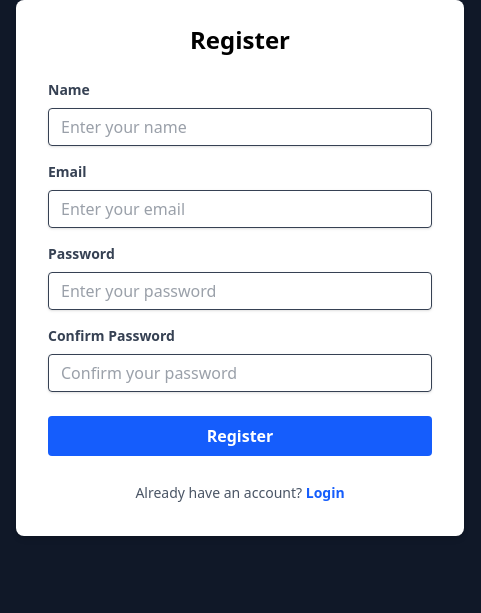
Test: RegisterForm › validation › should show error when passwords do not match
In the field labelled "Name": (240,127) [48, 108, 432, 146], type "Test User"
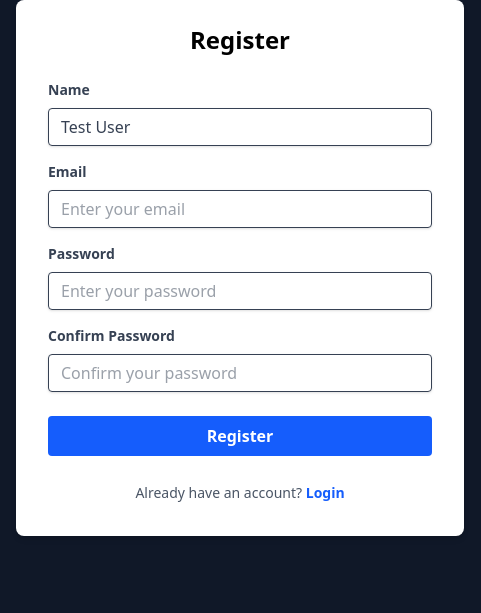
In the field labelled "Email": (240,209) [48, 190, 432, 228], type "test@example.com"
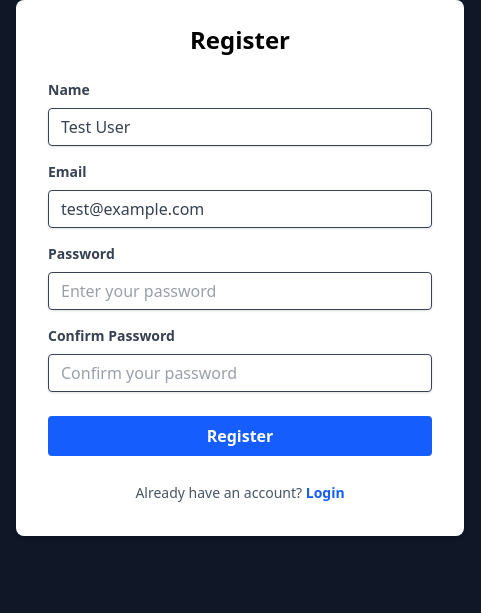
In the password field labelled "Password": (240,291) [48, 272, 432, 310], type "Password123"
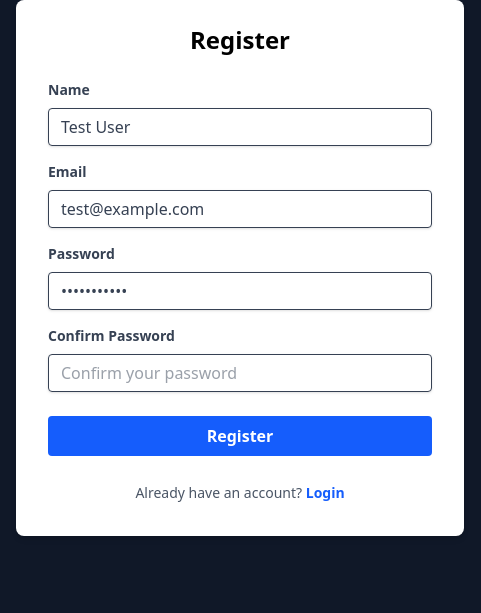
In the password field labelled "Confirm Password": (240,373) [48, 354, 432, 392], type "DifferentPassword123"
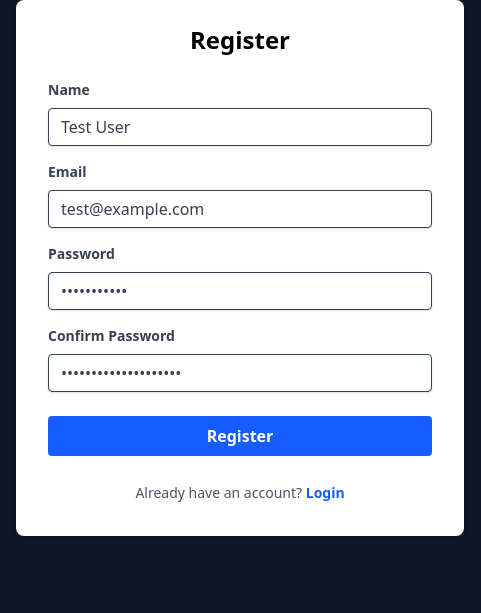
Click the button "Register": (240,436) [48, 416, 432, 456]
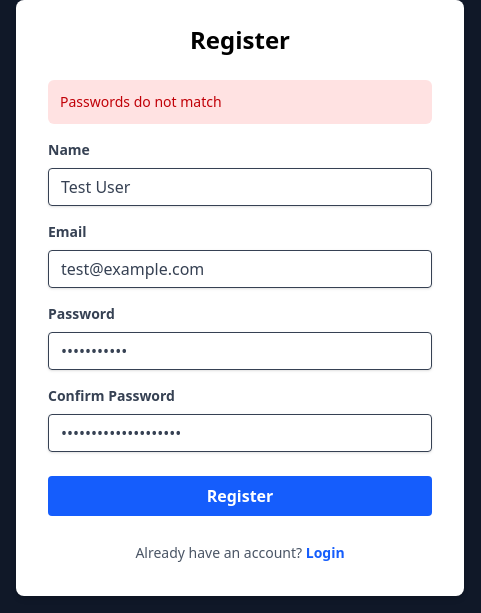
expect the text "Passwords do not match" is shown: met, box [48, 80, 432, 124]
